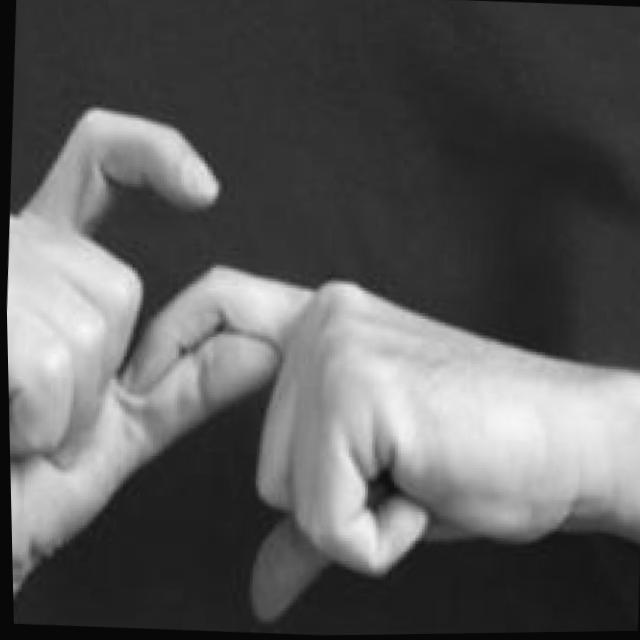S: (2, 83, 612, 640)
